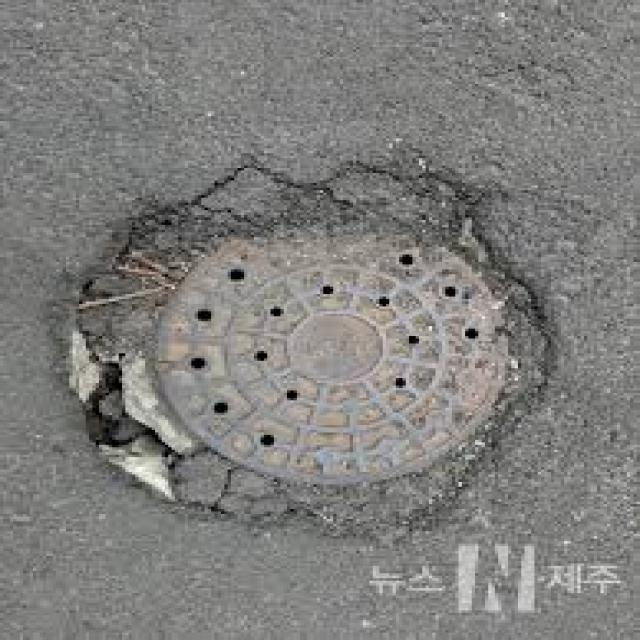manhole: (71, 236, 535, 526)
